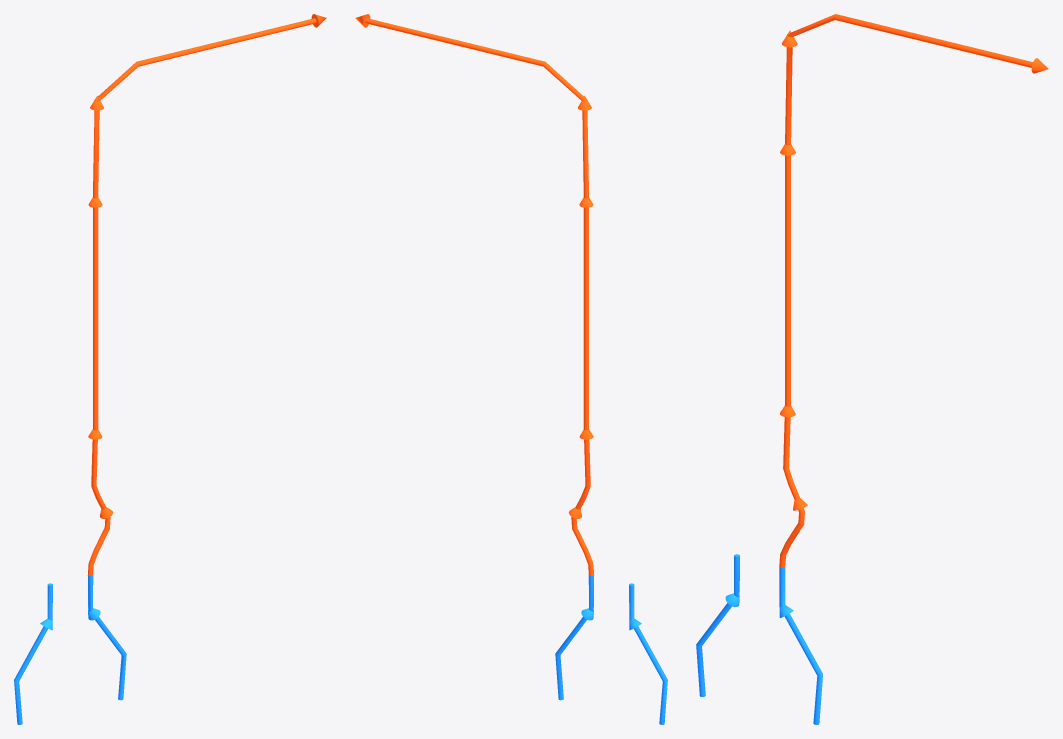
The model's file is mixed_flow_pump_flow.glb.
The picture shows the model from 3 angles, left to right: view 1: azimuth 30°, elevation 25°; view 2: azimuth 150°, elevation 25°; view 3: azimuth 330°, elevation 25°; orthographic projection. The views are drawn at different scales.
Parts seen in each view (by area): view 1: flow_discharge, flow_suction, flow_suction2; view 2: flow_discharge, flow_suction, flow_suction2; view 3: flow_discharge, flow_suction2, flow_suction.
Part boxes in pixels (box(x1,y1,x2,y2)): flow_discharge: box(88, 14, 326, 575); flow_suction: box(14, 583, 52, 724); flow_suction2: box(87, 575, 126, 700); flow_discharge: box(355, 14, 593, 575); flow_suction: box(629, 583, 667, 724); flow_suction2: box(555, 575, 594, 700); flow_discharge: box(779, 14, 1048, 567); flow_suction2: box(779, 567, 822, 724); flow_suction: box(696, 554, 739, 696).
Bounding box in the file's own units: 1.86 × 3.63 × 0.0728.
